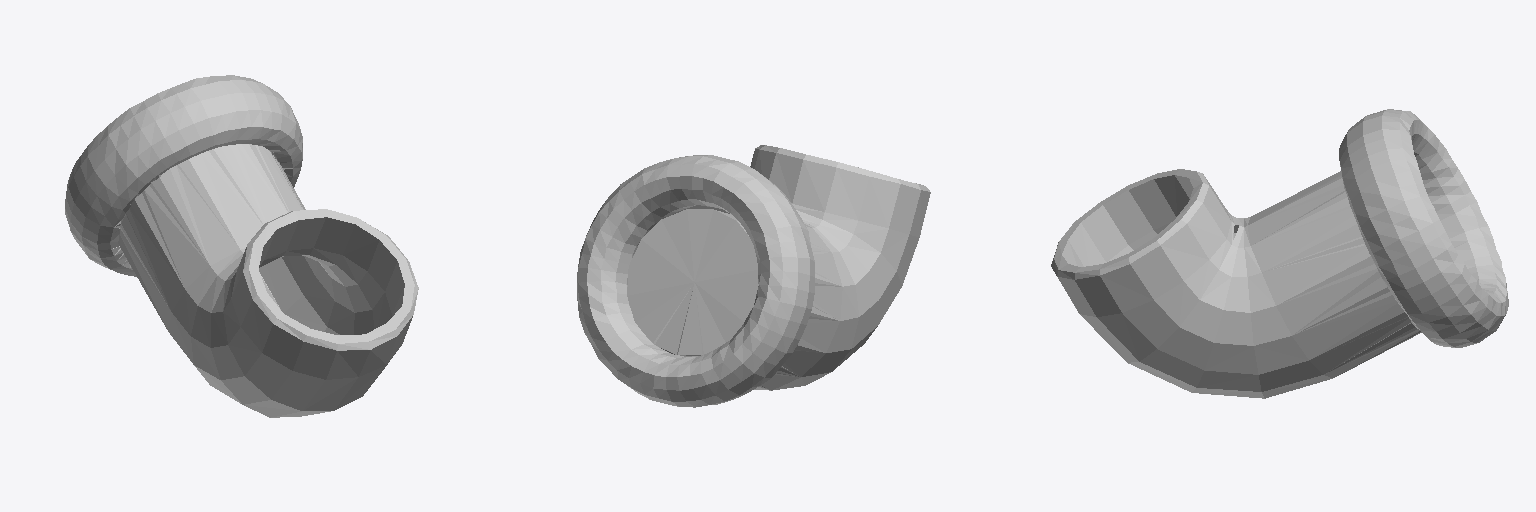
File: exhaust_valve_2.obj
The picture shows the model from 3 angles: view 1: azimuth 30°, elevation 25°; view 2: azimuth 150°, elevation 25°; view 3: azimuth 270°, elevation 25°; orthographic projection.
Visible parts, largest first — view 1: exhaust_2; view 2: exhaust_2; view 3: exhaust_2.
Part boxes in pixels (left/top/right/bottom): exhaust_2: left=65, top=75, right=418, bottom=417; exhaust_2: left=577, top=145, right=930, bottom=407; exhaust_2: left=1051, top=109, right=1508, bottom=398.
Size of the model in its own units: 0.0002 by 0.0002 by 0.0003.